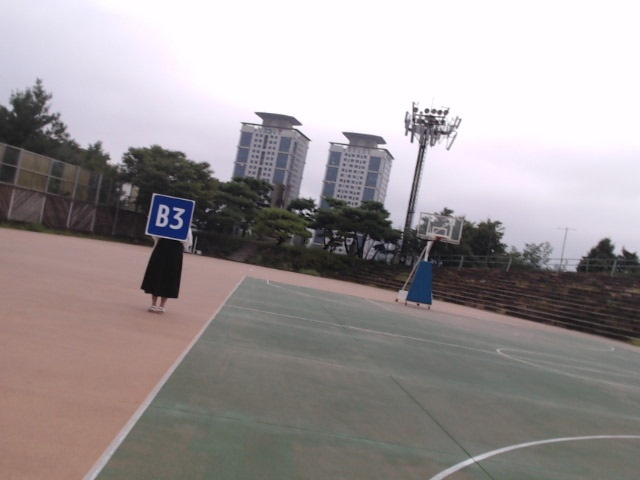delivery_b3: (146, 194, 194, 241)
